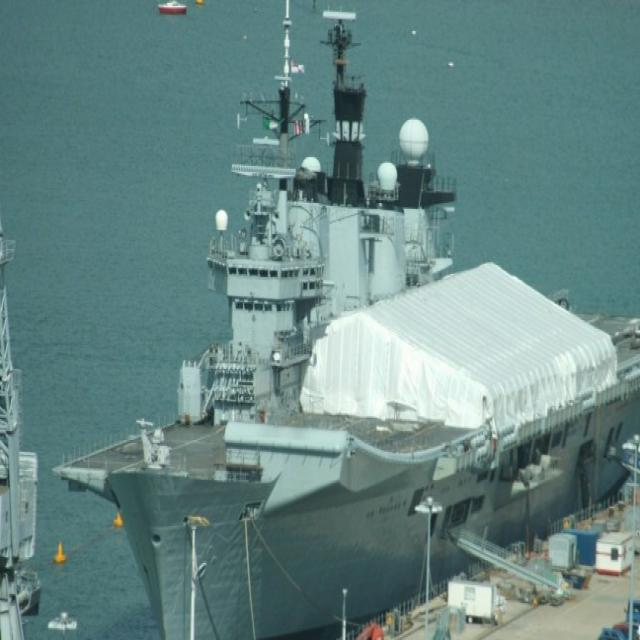Portanaves: (47, 1, 640, 640)
